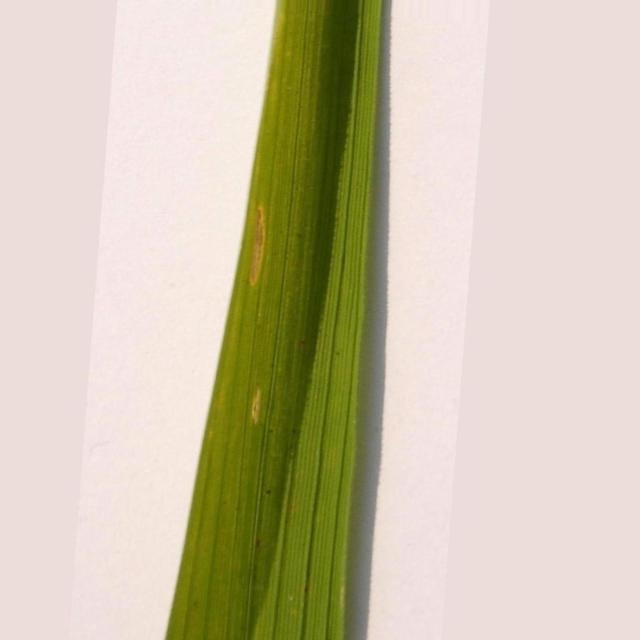Bacterial_Leaf_Blight: (248, 202, 264, 287), (248, 388, 264, 425)
